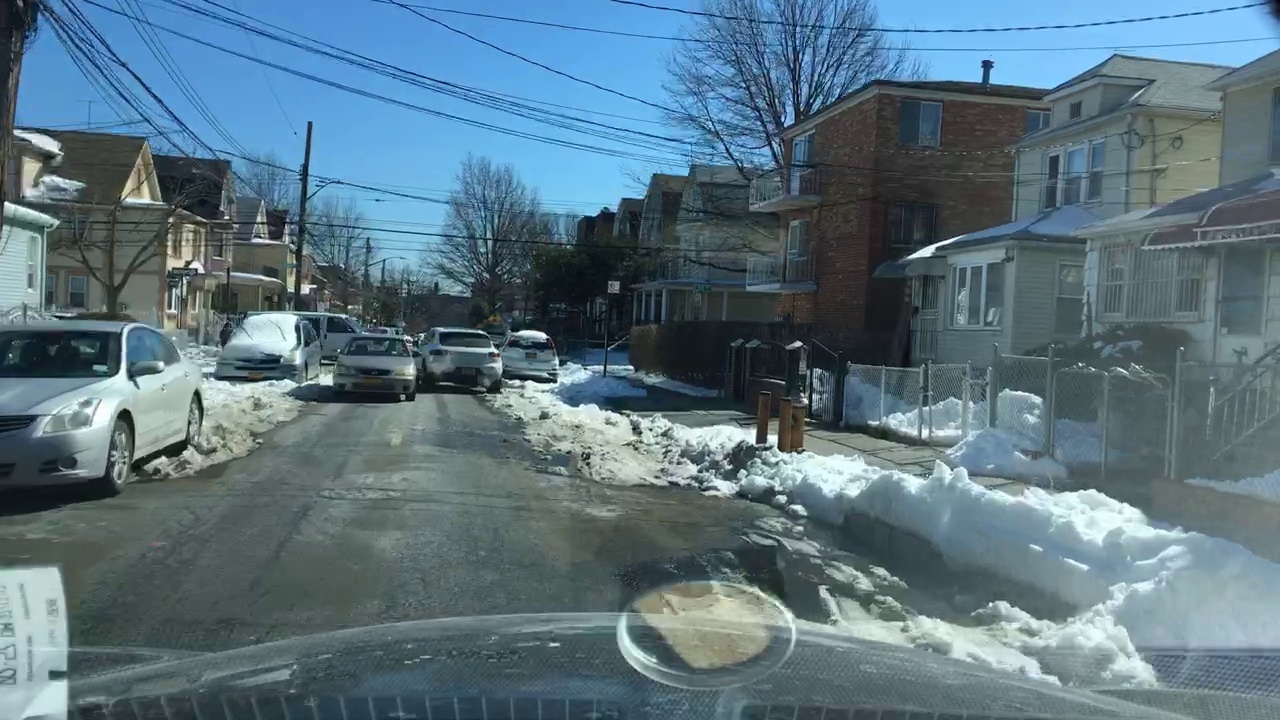car: (3, 312, 208, 495), (212, 306, 327, 387), (417, 325, 505, 397), (337, 333, 419, 406), (495, 327, 562, 380)
